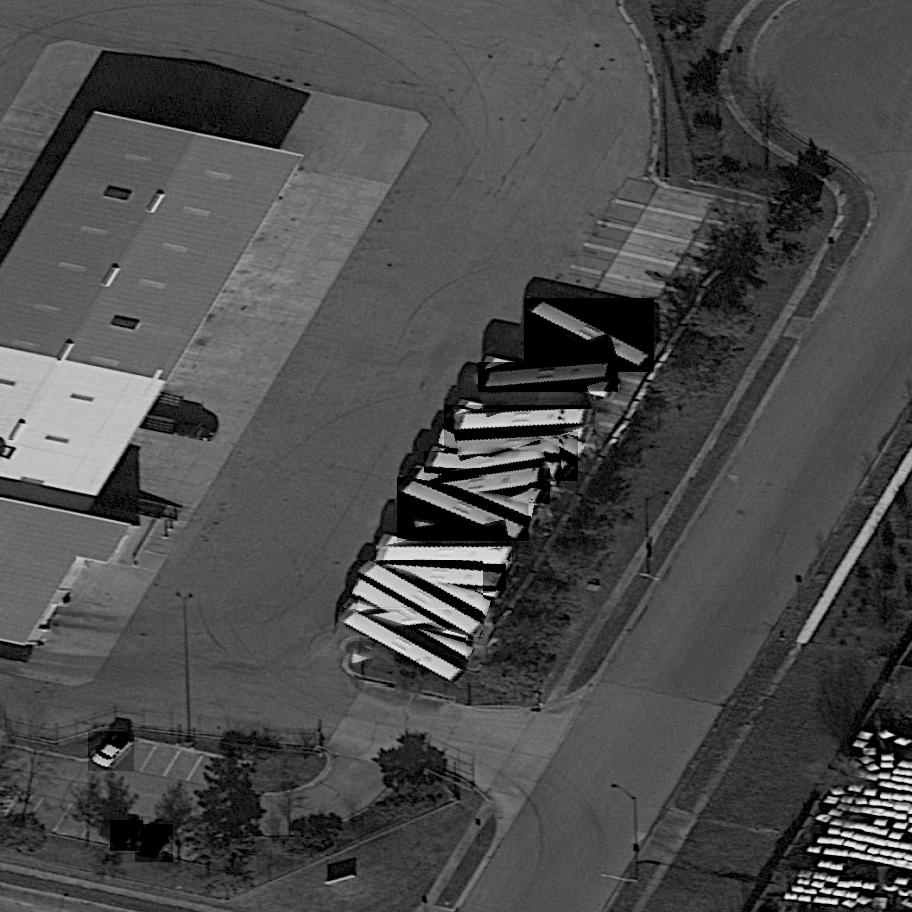large-vehicle: (444, 403, 578, 484), (337, 607, 466, 688), (357, 559, 483, 641), (524, 296, 654, 374), (398, 475, 529, 543), (407, 468, 552, 504), (339, 604, 482, 637), (478, 363, 618, 392), (424, 452, 560, 481), (370, 564, 506, 592), (454, 410, 596, 435), (376, 547, 512, 564)
small-vehicle: (89, 727, 135, 775), (135, 820, 174, 866), (110, 815, 143, 857)
